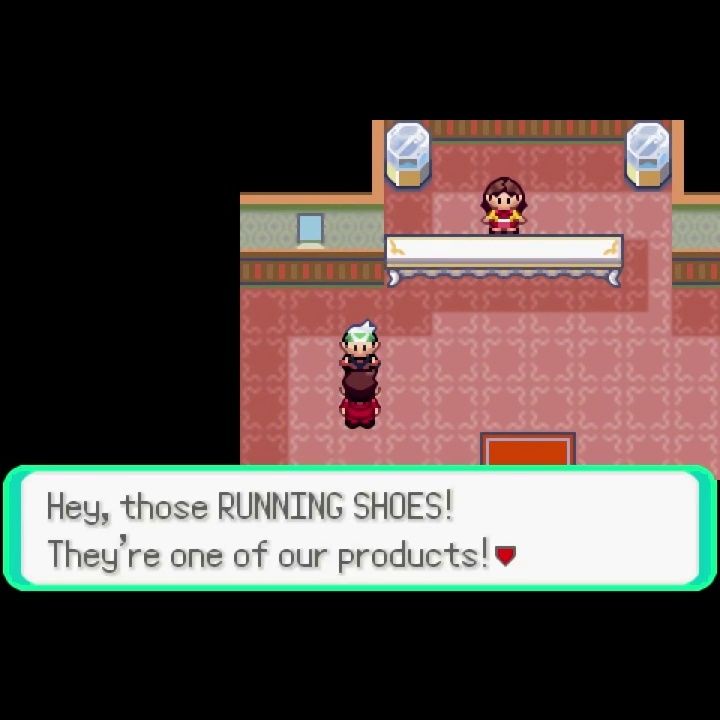exit: (476, 427, 579, 465)
npc: (336, 367, 383, 436), (478, 175, 528, 235), (339, 315, 382, 372)
